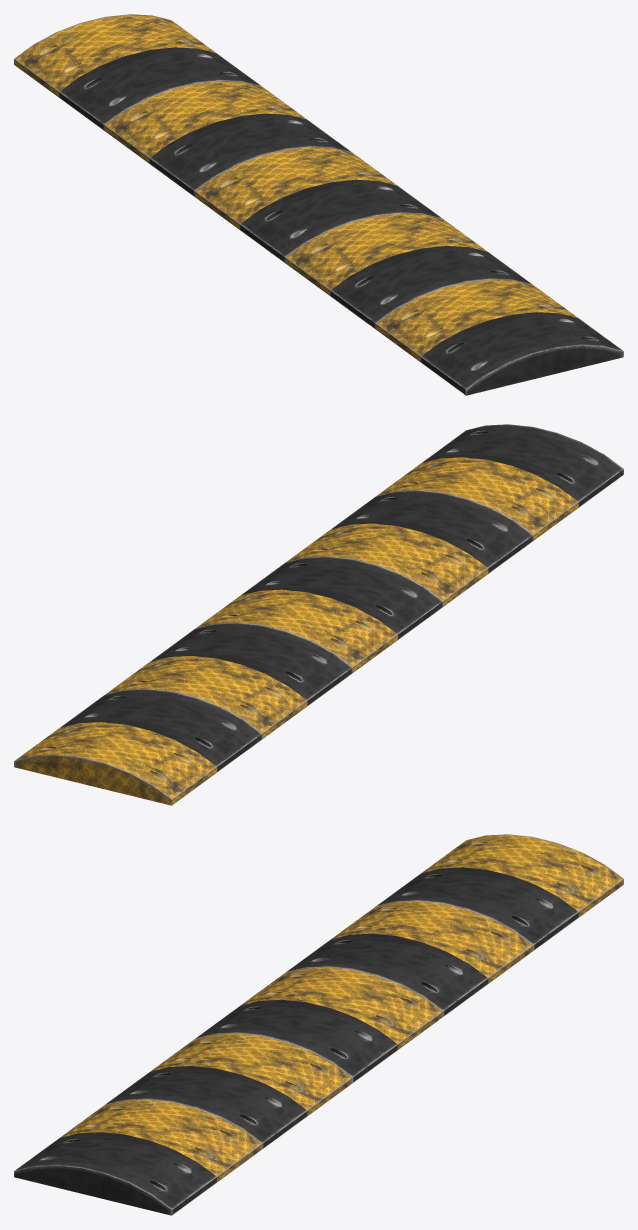
The model's file is SpeedBump.fbx.
The picture shows the model from 3 angles, top to bottom: view 1: azimuth 30°, elevation 25°; view 2: azimuth 150°, elevation 25°; view 3: azimuth 330°, elevation 25°; orthographic projection.
Visible parts, largest first — view 1: Cube; view 2: Cube; view 3: Cube.
Part boxes in pixels (x1=…): Cube: x1=14, y1=14, x2=623, y2=395; Cube: x1=14, y1=424, x2=623, y2=805; Cube: x1=14, y1=834, x2=623, y2=1215.
Size of the model in its own units: 200 by 31.14 by 992.
